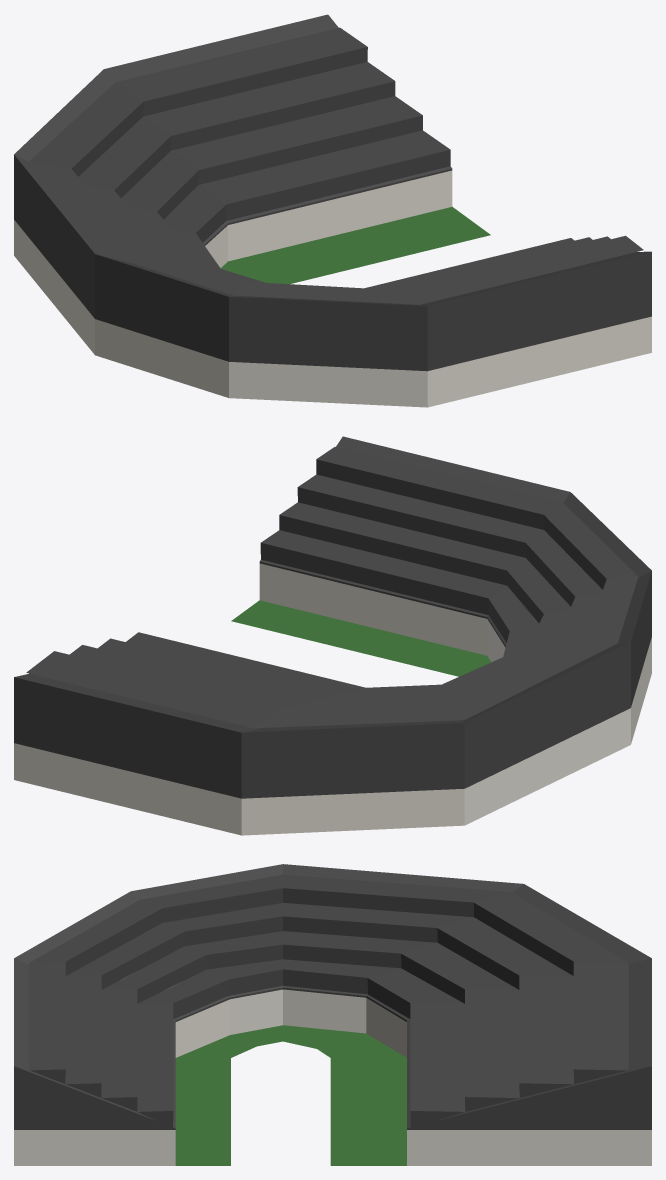
File: TRACK5.fbx
3 renders of one model, top to bottom at view 1: azimuth 30°, elevation 25°; view 2: azimuth 150°, elevation 25°; view 3: azimuth 270°, elevation 25°, orthographic. The views are drawn at different scales.
Visible parts, largest first — view 1: Round_Paltform.002; view 2: Round_Paltform.002; view 3: Round_Paltform.002.
Part boxes in pixels (bbox=[...]): Round_Paltform.002: bbox=[14, 14, 651, 407]; Round_Paltform.002: bbox=[14, 436, 651, 835]; Round_Paltform.002: bbox=[14, 864, 651, 1165].
Size of the model in its own units: 24362 by 5611 by 32516.
